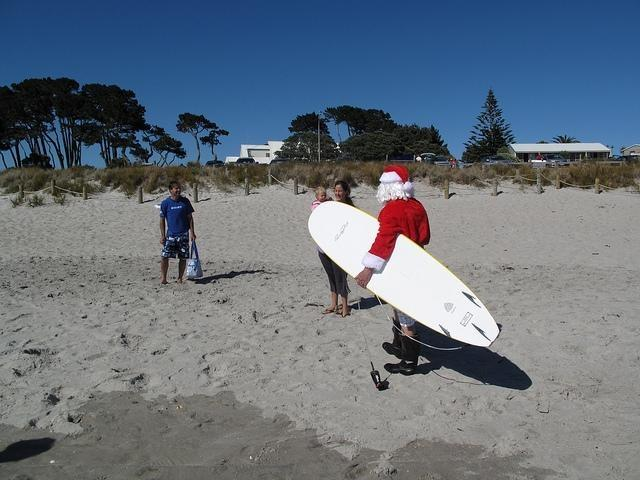car: (228, 157, 260, 167), (480, 155, 515, 163), (432, 156, 452, 166), (416, 152, 436, 162), (205, 161, 224, 168)
